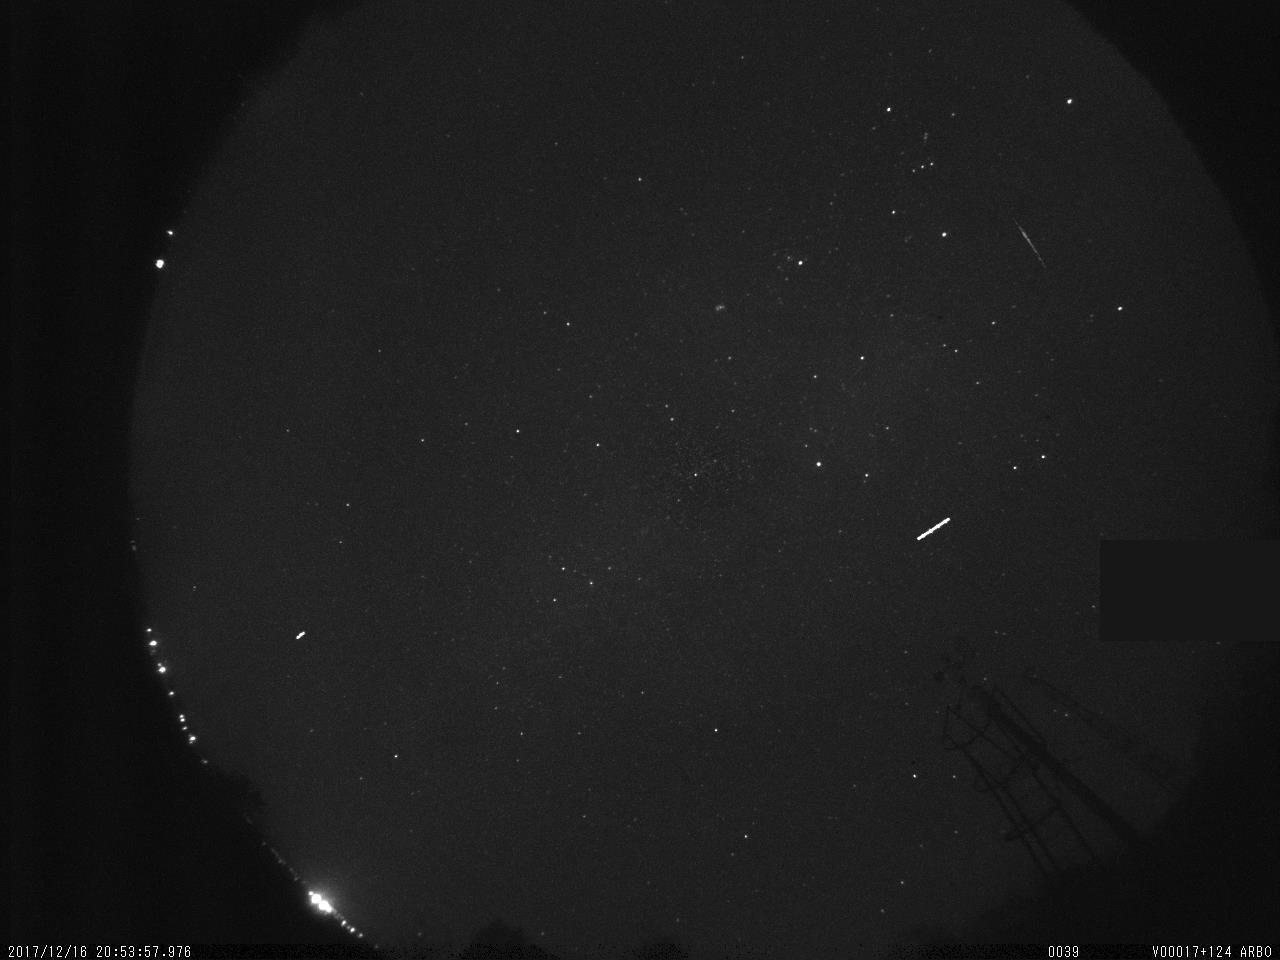Meteor: (1004, 211, 1057, 281), (920, 124, 929, 160)
